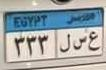3: (37, 34, 50, 56), (14, 34, 25, 59), (26, 35, 37, 58)
ain: (88, 30, 100, 53)
laam: (59, 32, 71, 55)
seen: (72, 35, 87, 52)
